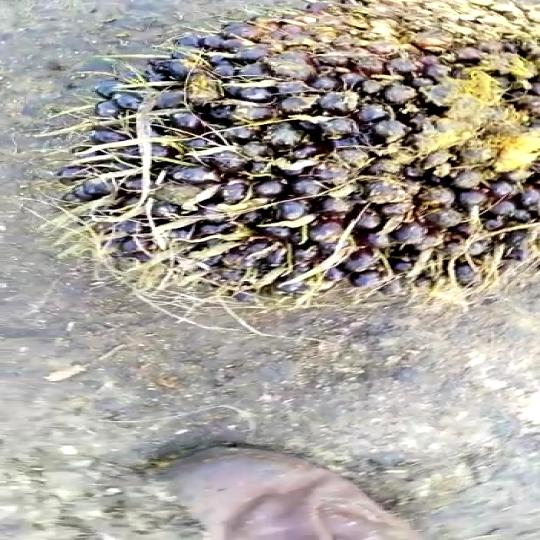mentah: (60, 0, 540, 307)
